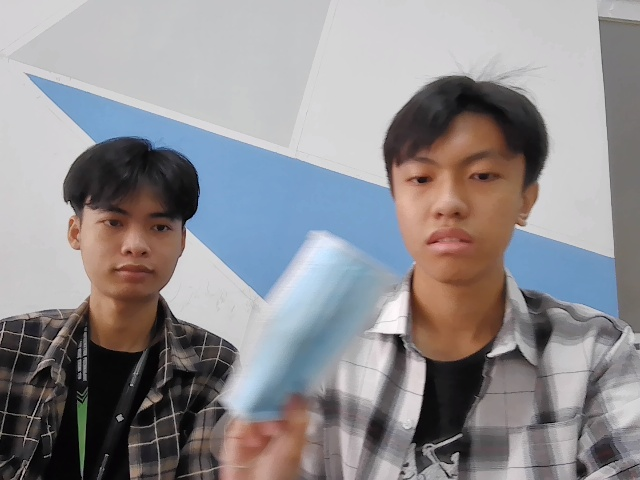human: (385, 59, 537, 278), (65, 130, 203, 301)
mask: (217, 216, 395, 423)
